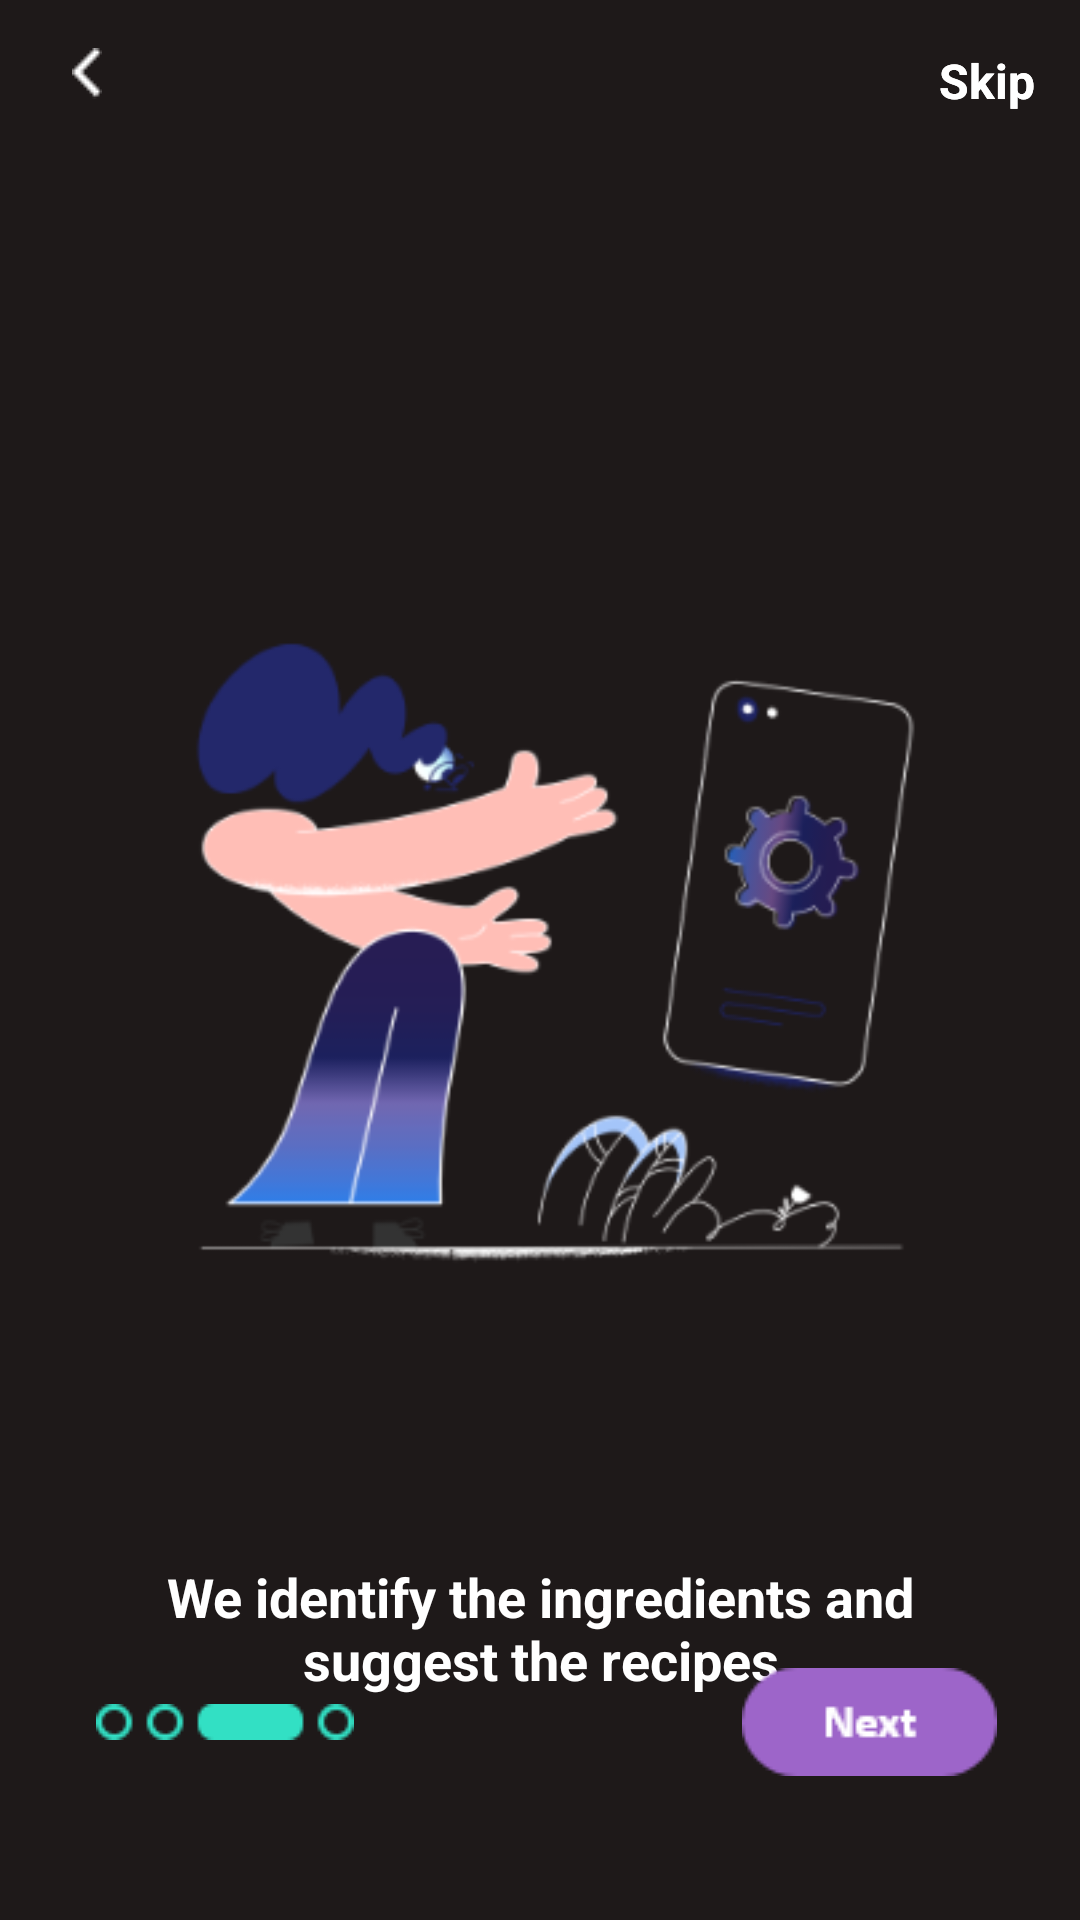

Named icons in this screenshot (1080 x 1920) and their centers, (x,y):
back arrow: (87,72)
